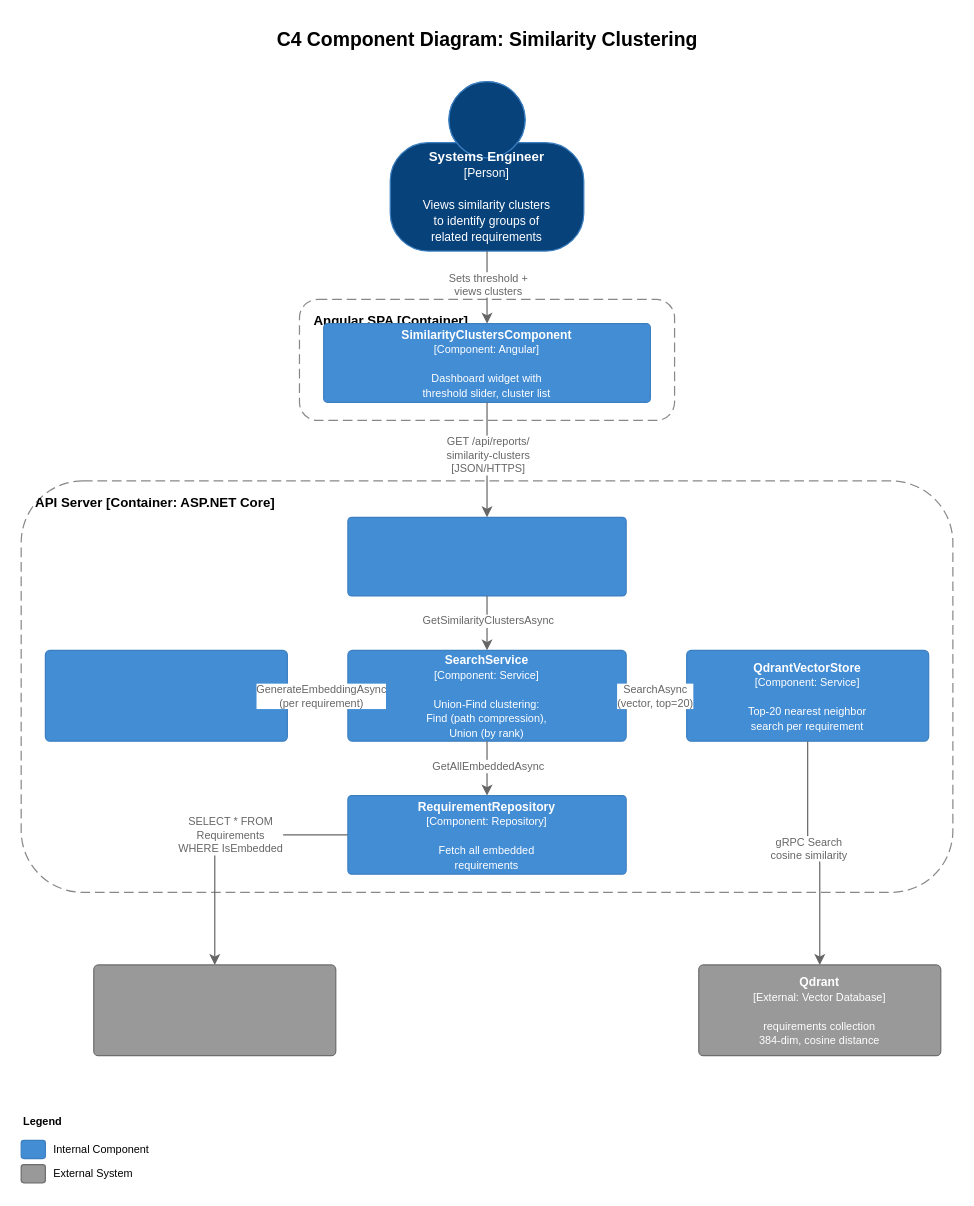
Some shapes in this 974 by 1206 pixel diagram are drawn without their labels. The centre of each missing label's shape, as x and y in pixels:
"OnnxEmbeddingService [Component: Singleton] all-MiniLM-L6-v2 384-dim embeddings" goes at pixel 165 695.
"ReportsController [Component: Controller] GET /api/reports/ similarity-clusters" goes at pixel 486 556.
"SQLite [External: Database] Requirements table (embedded status)" goes at pixel 214 1010.
